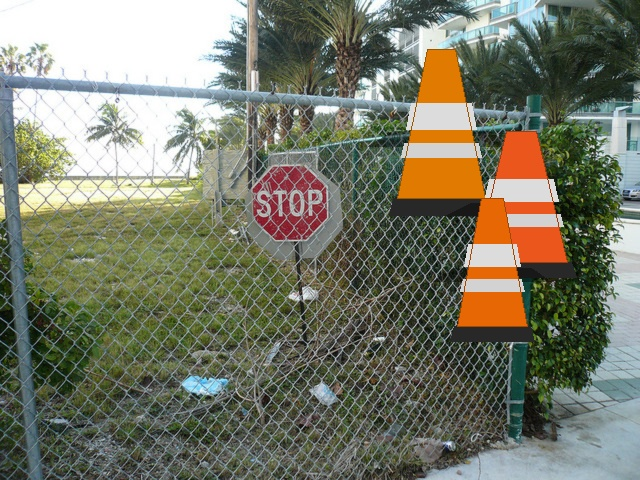traffic-cone: (389, 49, 493, 215), (466, 131, 576, 277), (450, 198, 534, 341)
